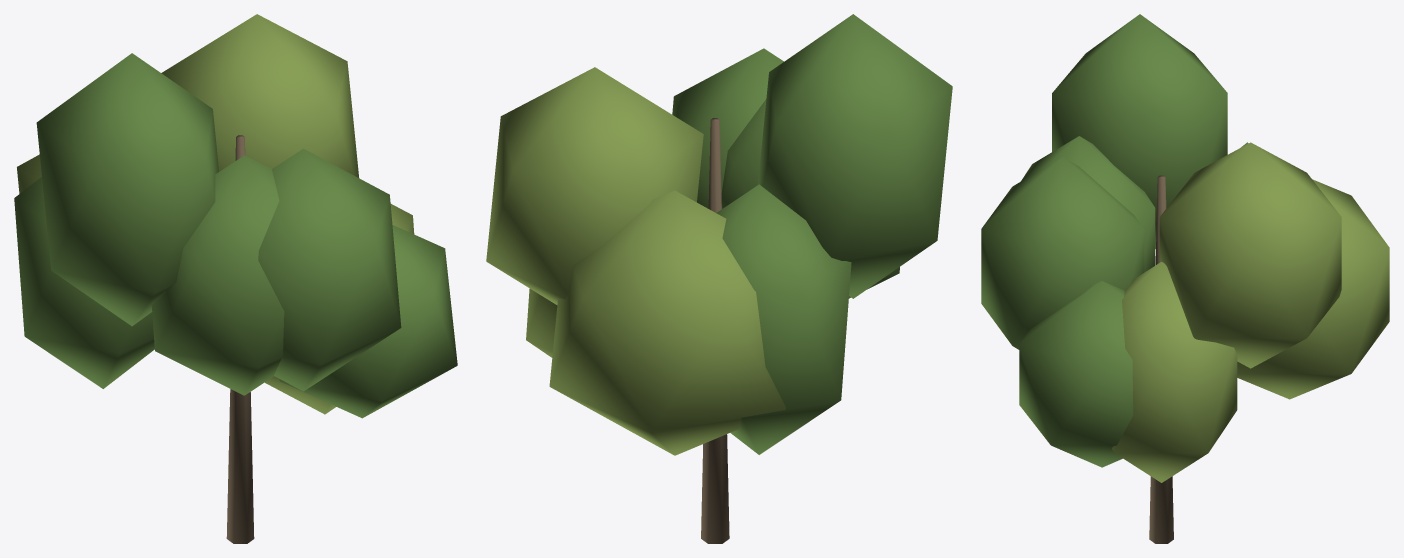
Rendered from tree-mobile.glb.
3 renders of one model, left to right at view 1: azimuth 30°, elevation 25°; view 2: azimuth 150°, elevation 25°; view 3: azimuth 270°, elevation 25°, orthographic. The views are drawn at different scales.
Visible parts, largest first — view 1: Beech_mobile; view 2: Beech_mobile; view 3: Beech_mobile.
Boxes of the visible parts, bbox=[...] form: Beech_mobile: bbox=[14, 14, 457, 543]; Beech_mobile: bbox=[486, 14, 952, 543]; Beech_mobile: bbox=[981, 14, 1389, 543].
Bounding box in the file's own units: 10.7 × 14.34 × 11.24.
